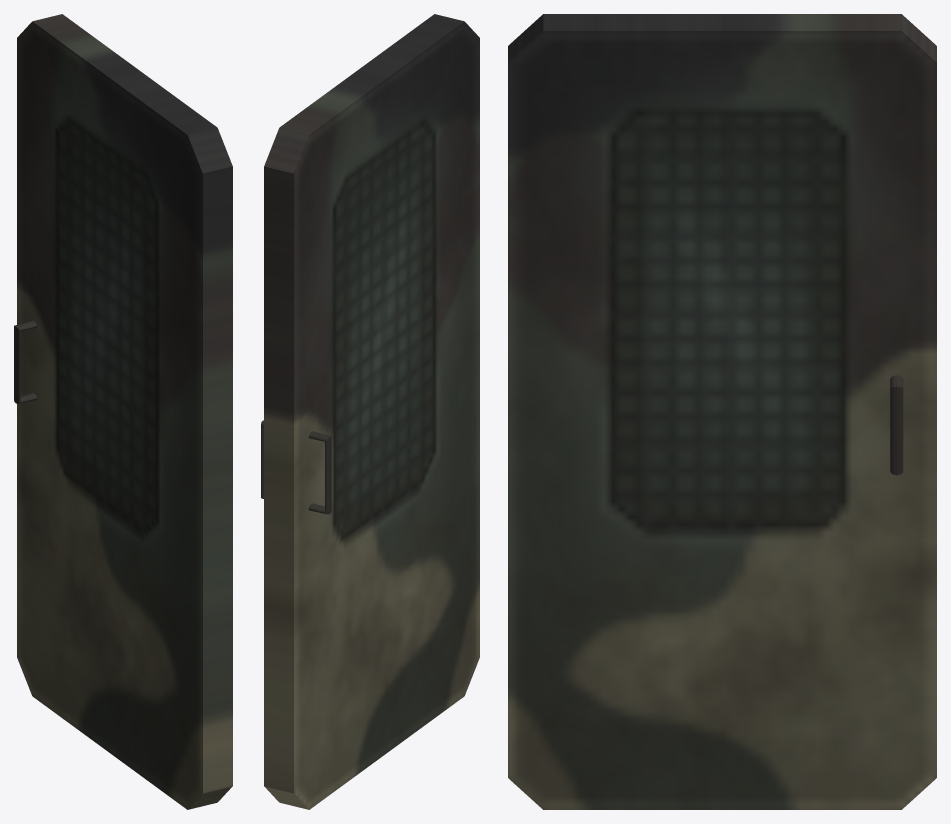
Rendered from Comms Cabin Door (1).fbx.
3 renders of one model, left to right at view 1: azimuth 30°, elevation 25°; view 2: azimuth 150°, elevation 25°; view 3: azimuth 270°, elevation 25°, orthographic. The views are drawn at different scales.
Visible parts, largest first — view 1: Truck_with_antenna_wheel2_1.001; view 2: Truck_with_antenna_wheel2_1.001; view 3: Truck_with_antenna_wheel2_1.001.
Boxes of the visible parts, x1,y1,x2,y2 form: Truck_with_antenna_wheel2_1.001: [14, 14, 232, 809]; Truck_with_antenna_wheel2_1.001: [261, 14, 479, 809]; Truck_with_antenna_wheel2_1.001: [508, 14, 936, 809].
Size of the model in its own units: 14.31 by 137 by 68.21.
